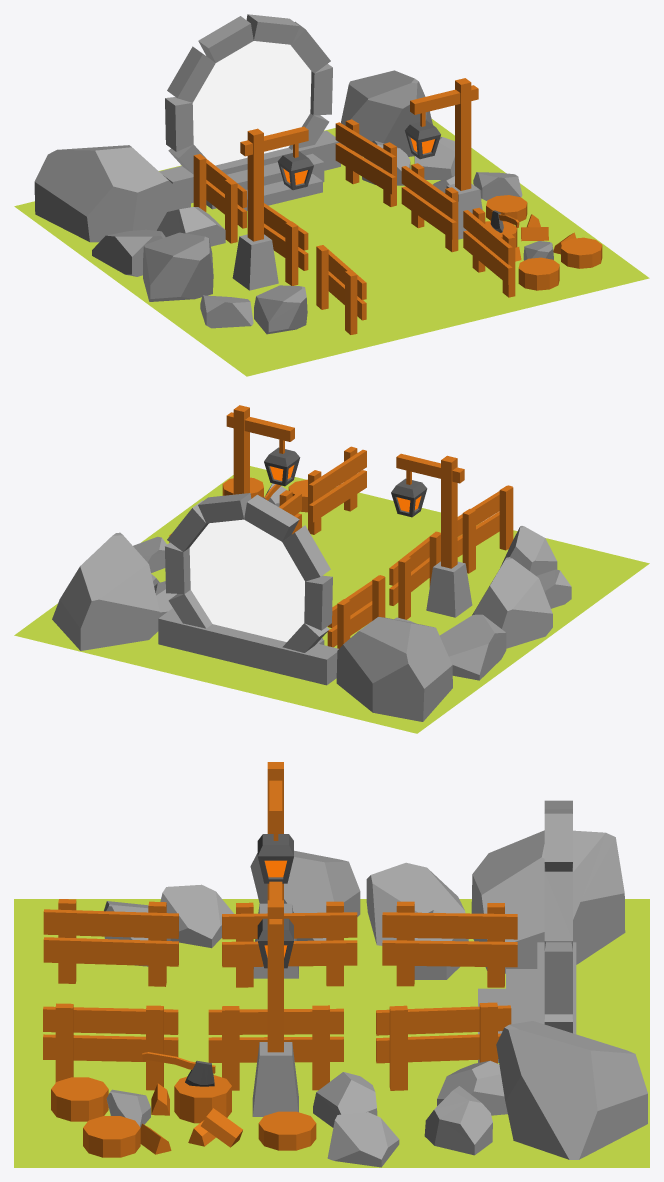
File: portal.glb
3 renders of one model, top to bottom at view 1: azimuth 30°, elevation 25°; view 2: azimuth 150°, elevation 25°; view 3: azimuth 270°, elevation 25°, orthographic. The views are drawn at different scales.
Visible parts, largest first — view 1: Cube.052, Portal; view 2: Cube.052, Portal; view 3: Cube.052.
Part boxes in pixels (x1,y1,x2,y2): Cube.052: [14, 14, 649, 376]; Portal: [192, 41, 311, 165]; Cube.052: [14, 405, 649, 733]; Portal: [189, 519, 304, 641]; Cube.052: [14, 762, 649, 1167].
Size of the model in its own units: 4 by 1.55 by 4.
